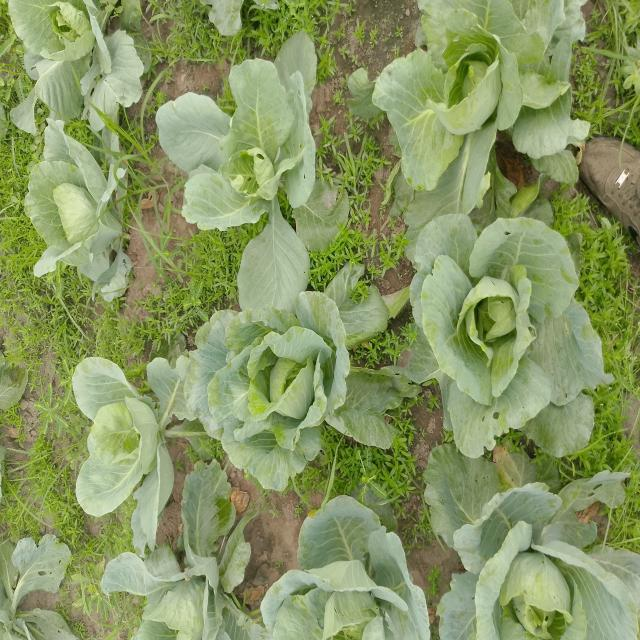Cabbage: (150, 247, 395, 505), (354, 0, 616, 237), (357, 211, 591, 465), (3, 0, 151, 300), (437, 450, 640, 640), (166, 34, 340, 236), (53, 350, 193, 555), (114, 475, 266, 639), (268, 509, 430, 640), (2, 538, 83, 640)
